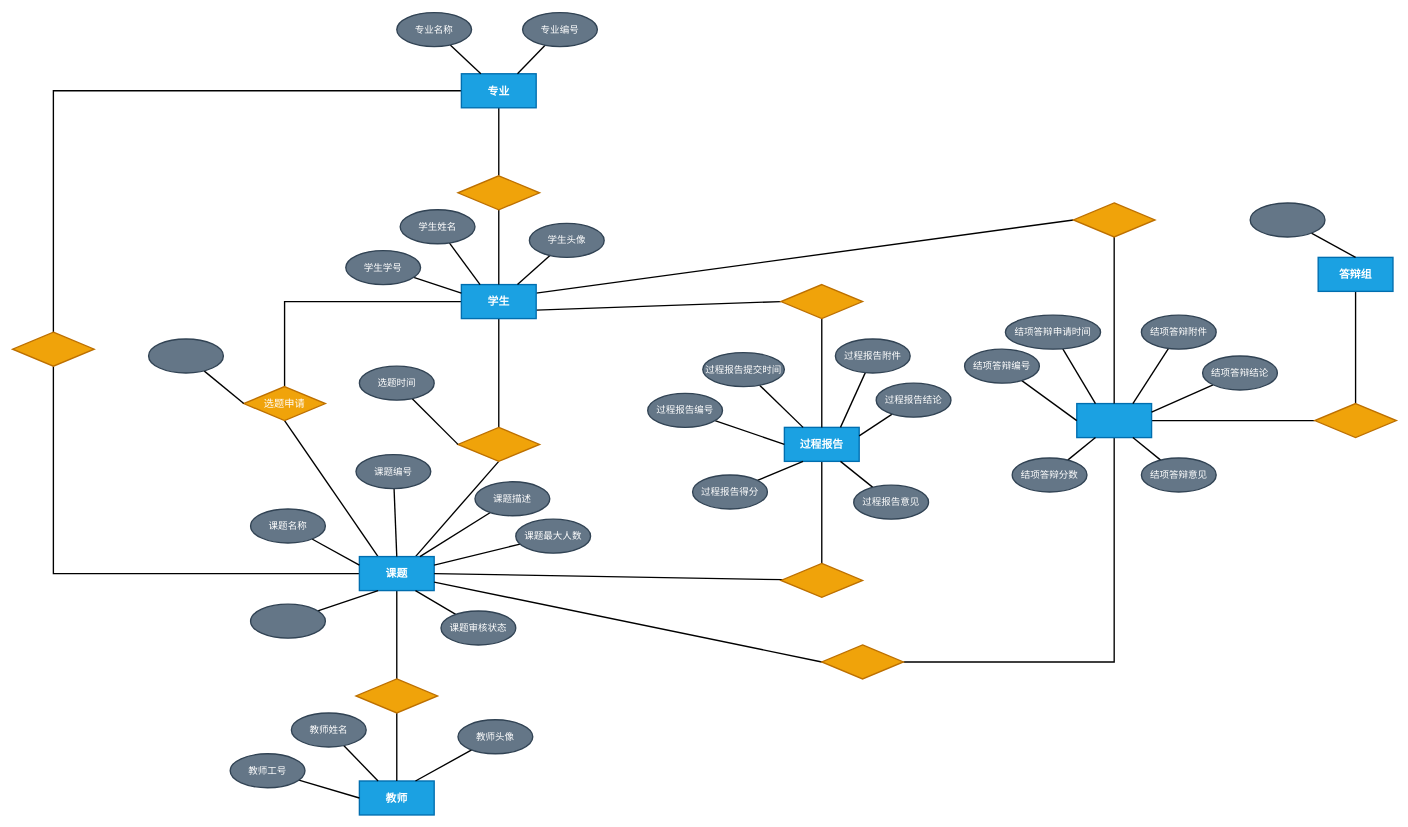
This 1408x827 diagram has some shape labels left out. The shapes that lost their labels are listed below. From the top down, each one's centre as x and y in pixels, then its label:
(498,192): 就读
(1113,219): 编写结项答辩
(1287,219): 答辩组编号
(821,301): 编写过程报告
(53,349): 面向开放
(186,355): 选题申请时间
(1114,420): 结项答辩
(1355,420): 听取
(498,444): 选题
(821,580): 过程报告涉及
(288,621): 课题类型
(862,661): 结项答辩涉及
(396,695): 指导
